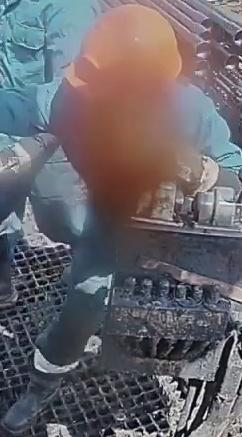gloves: (170, 147, 231, 198)
helmet: (65, 5, 183, 102)
vest: (13, 78, 234, 253), (0, 0, 101, 136)
